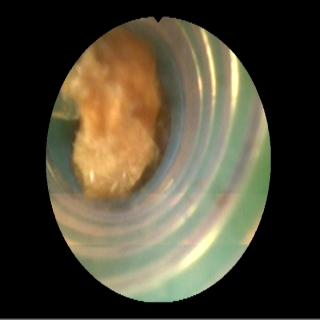stone: (63, 29, 169, 200)
